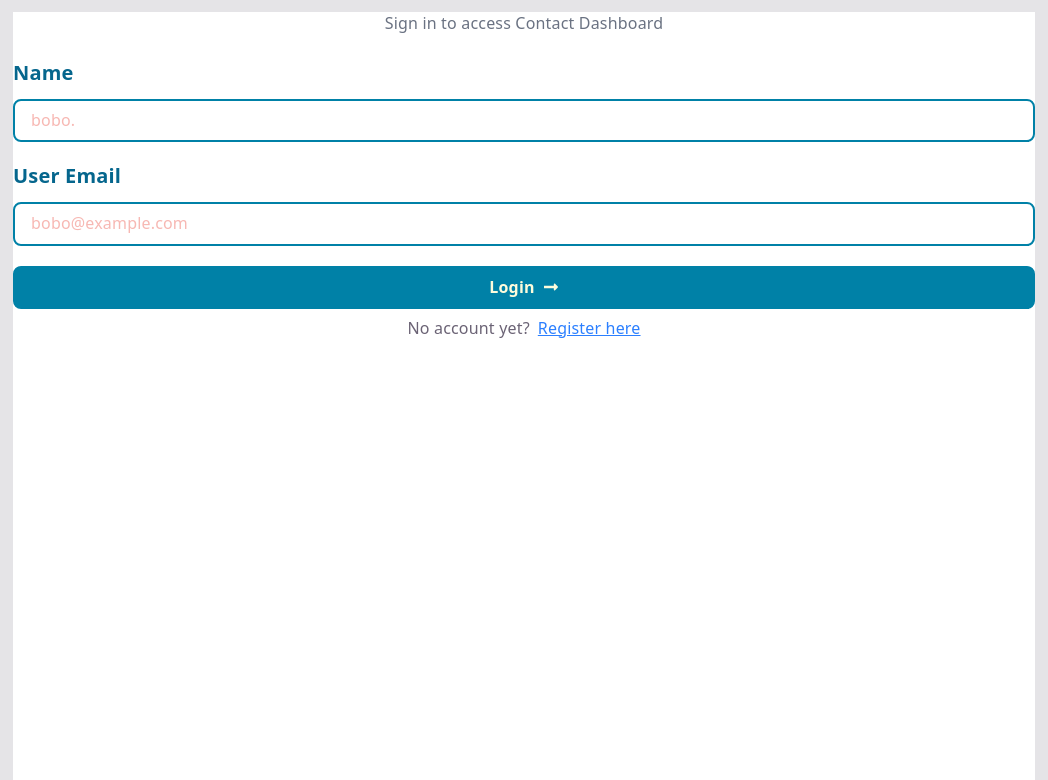
Login/Register Form testing › switch to the register mode
The width and height of the screenshot is (1048, 780).
Step 1. Click the button "Register here" → click(585, 328), box [530,317,641,340]
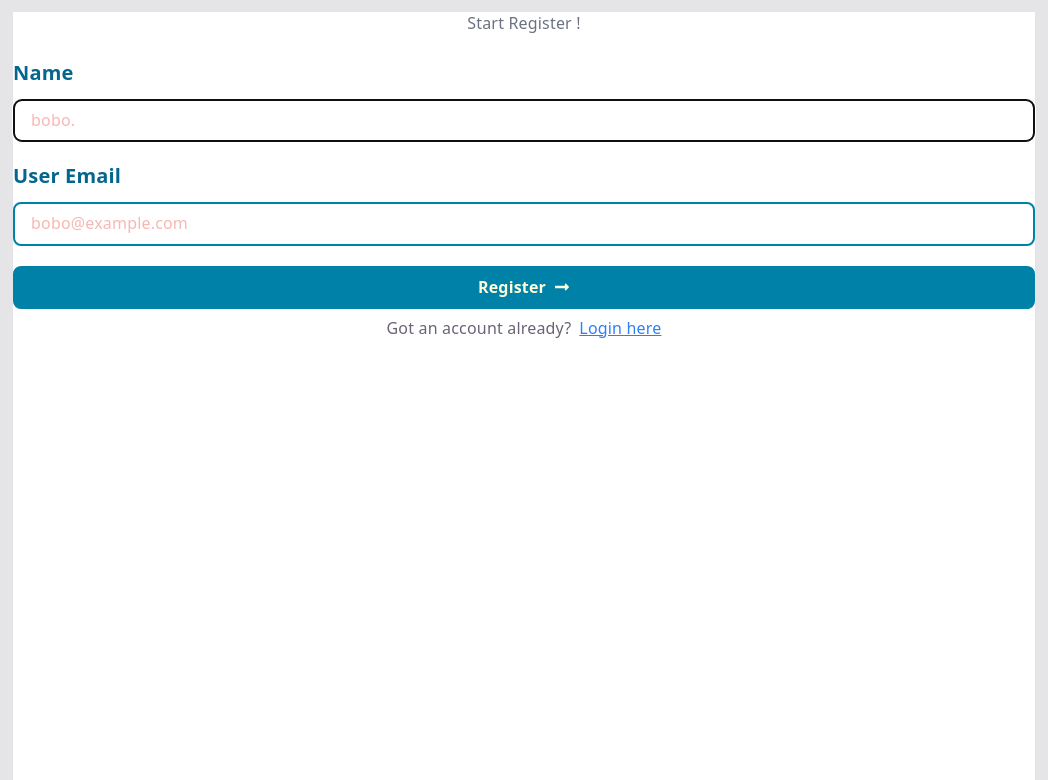
Expected: the text "Start Register !" is shown, [467,12,581,35]
Expected: the button "Register" is shown, [13,266,1035,309]
